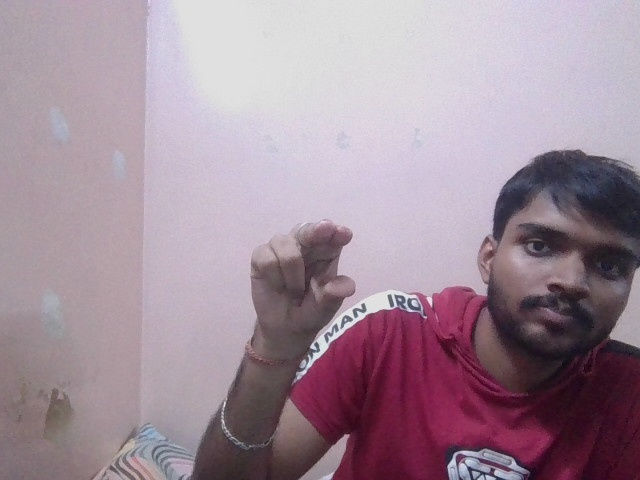No: (233, 210, 358, 334)
